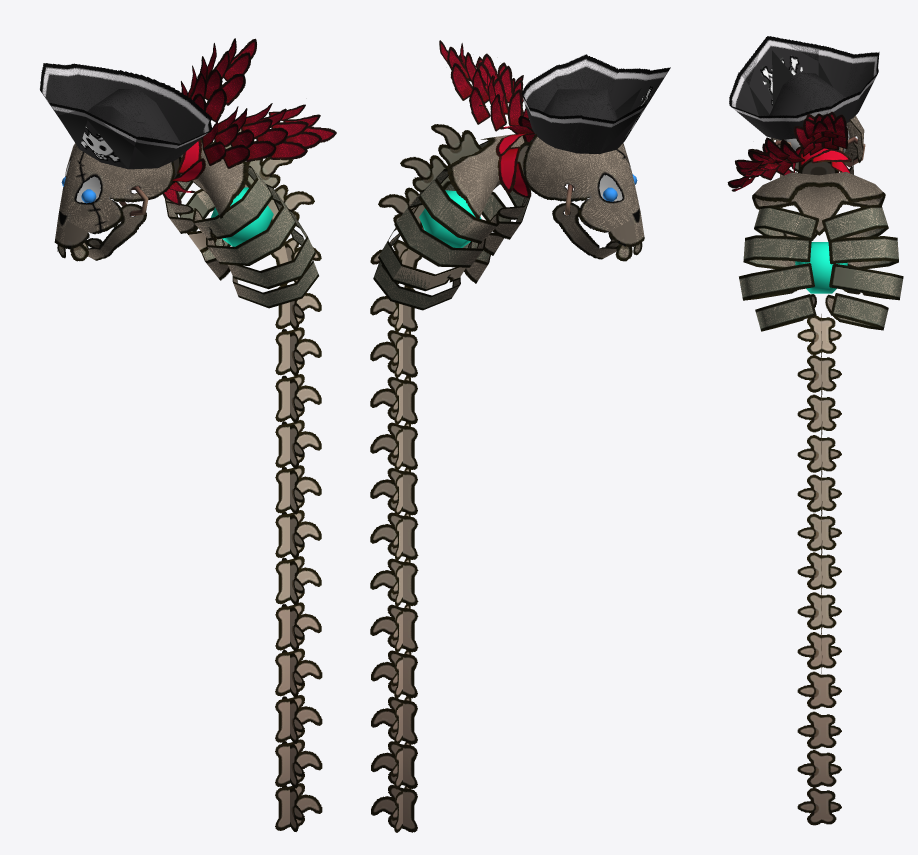
The model's file is c_korutesu2.tri.dae.
3 renders of one model, left to right at view 1: azimuth 30°, elevation 25°; view 2: azimuth 150°, elevation 25°; view 3: azimuth 270°, elevation 25°, orthographic. The views are drawn at different scales.
Parts seen in each view (by area): view 1: pPlane27, pPlane20, pPlane28, pPlane42_bake, pPlane41_bake, pPlane43_bake, pPlane33, pPlane4, pPlane68_bake, pPlane51, locator47_locator1_pPlane7, locator46_locator1_pPlane7 (+14 smaller); view 2: pPlane27, pPlane20, pPlane28, pPlane33, pPlane47_bake, pPlane45_bake, pPlane4, pPlane66_bake, pPlane51, locator44_locator1_pPlane7, locator45_locator1_pPlane7, locator41_locator1_pPlane7 (+21 smaller); view 3: pPlane27, pPlane33, pPlane28, pPlane45_bake, pPlane42_bake, pPlane43_bake, pPlane49_bake, pPlane47_bake, pPlane41_bake, pPlane66_bake, pPlane68_bake, pPlane6 (+25 smaller).
Part boxes in pixels (x1=…): pPlane27: x1=40, y1=63, x2=211, y2=169; pPlane20: x1=54, y1=143, x2=175, y2=249; pPlane28: x1=40, y1=63, x2=211, y2=169; pPlane42_bake: x1=206, y1=184, x2=296, y2=265; pPlane41_bake: x1=192, y1=165, x2=273, y2=240; pPlane43_bake: x1=222, y1=200, x2=315, y2=288; pPlane33: x1=180, y1=138, x2=249, y2=218; pPlane4: x1=55, y1=145, x2=174, y2=245; pPlane68_bake: x1=232, y1=229, x2=318, y2=308; pPlane51: x1=83, y1=203, x2=146, y2=260; locator47_locator1_pPlane7: x1=275, y1=695, x2=322, y2=742; locator46_locator1_pPlane7: x1=275, y1=648, x2=322, y2=696; pPlane27: x1=521, y1=54, x2=670, y2=154; pPlane20: x1=523, y1=134, x2=644, y2=247; pPlane28: x1=522, y1=54, x2=670, y2=153; pPlane33: x1=446, y1=134, x2=524, y2=219; pPlane47_bake: x1=418, y1=169, x2=498, y2=243; pPlane45_bake: x1=394, y1=189, x2=485, y2=267; pPlane4: x1=523, y1=134, x2=643, y2=244; pPlane66_bake: x1=373, y1=234, x2=460, y2=310; pPlane51: x1=552, y1=202, x2=616, y2=259; locator44_locator1_pPlane7: x1=370, y1=558, x2=418, y2=605; locator45_locator1_pPlane7: x1=370, y1=604, x2=418, y2=652; locator41_locator1_pPlane7: x1=370, y1=422, x2=417, y2=469; pPlane27: x1=729, y1=36, x2=879, y2=139; pPlane33: x1=752, y1=172, x2=885, y2=235; pPlane28: x1=729, y1=37, x2=879, y2=138; pPlane45_bake: x1=828, y1=236, x2=898, y2=268; pPlane42_bake: x1=743, y1=235, x2=811, y2=268; pPlane43_bake: x1=739, y1=263, x2=814, y2=300; pPlane49_bake: x1=829, y1=263, x2=903, y2=299; pPlane47_bake: x1=822, y1=205, x2=888, y2=243; pPlane41_bake: x1=754, y1=205, x2=818, y2=240; pPlane66_bake: x1=825, y1=293, x2=888, y2=330; pPlane68_bake: x1=755, y1=294, x2=816, y2=331; pPlane6: x1=752, y1=173, x2=884, y2=234.
Size of the model in its own units: 78.04 by 213 by 54.57.
